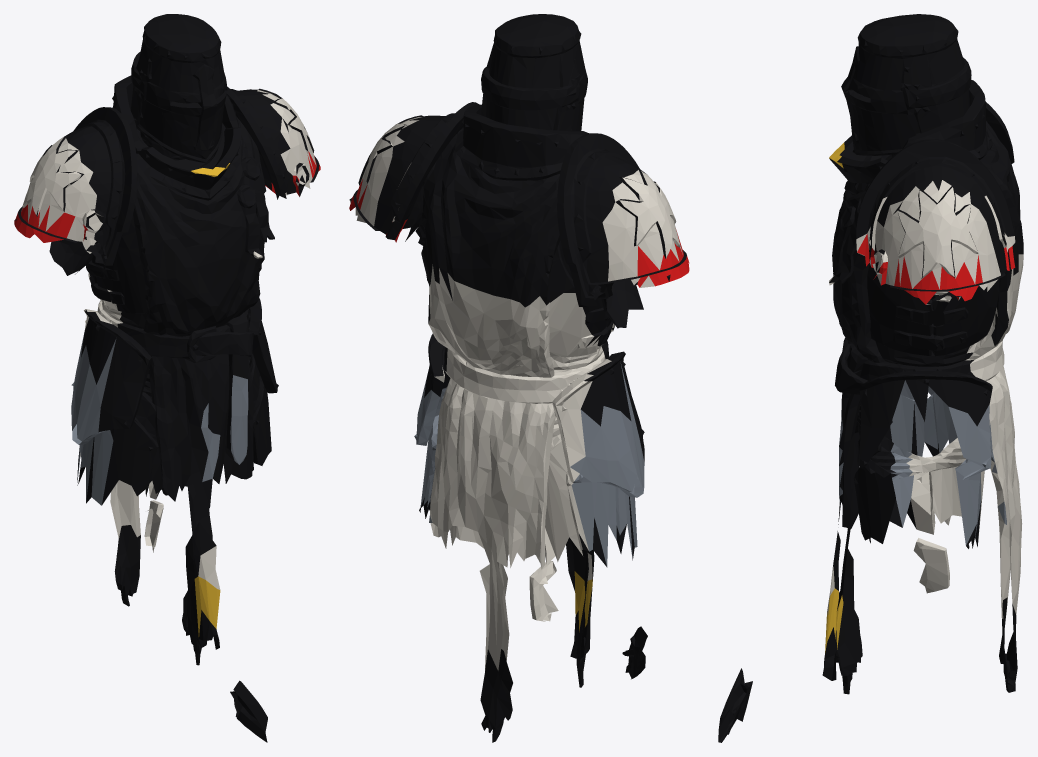
File: spacemarine_torso.obj
3 renders of one model, left to right at view 1: azimuth 30°, elevation 25°; view 2: azimuth 150°, elevation 25°; view 3: azimuth 270°, elevation 25°, orthographic. The views are drawn at different scales.
Parts seen in each view (by area): view 1: Torso; view 2: Torso; view 3: Torso.
Part boxes in pixels (x1,y1,x2,y2): Torso: (14,14,320,742); Torso: (349,14,689,742); Torso: (718,14,1023,742).
Bounding box in the file's own units: 0.8673 × 1.84 × 0.7094.
